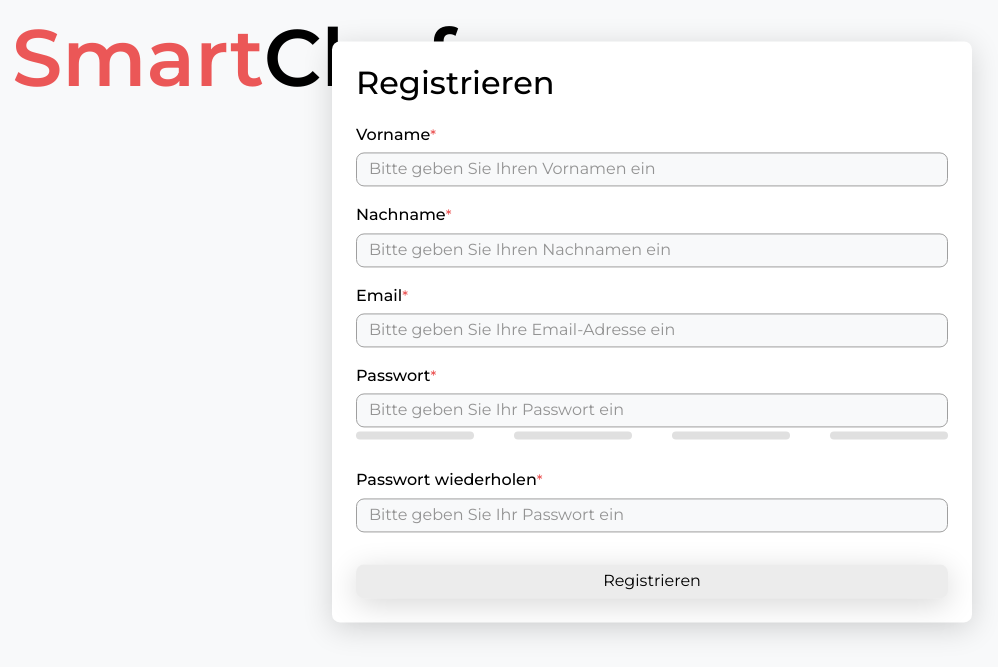
Scenario: Register page › Should not allow user to register if last name is missing
Focus the field named "lastName" at (652, 250), box [356,233,948,267]
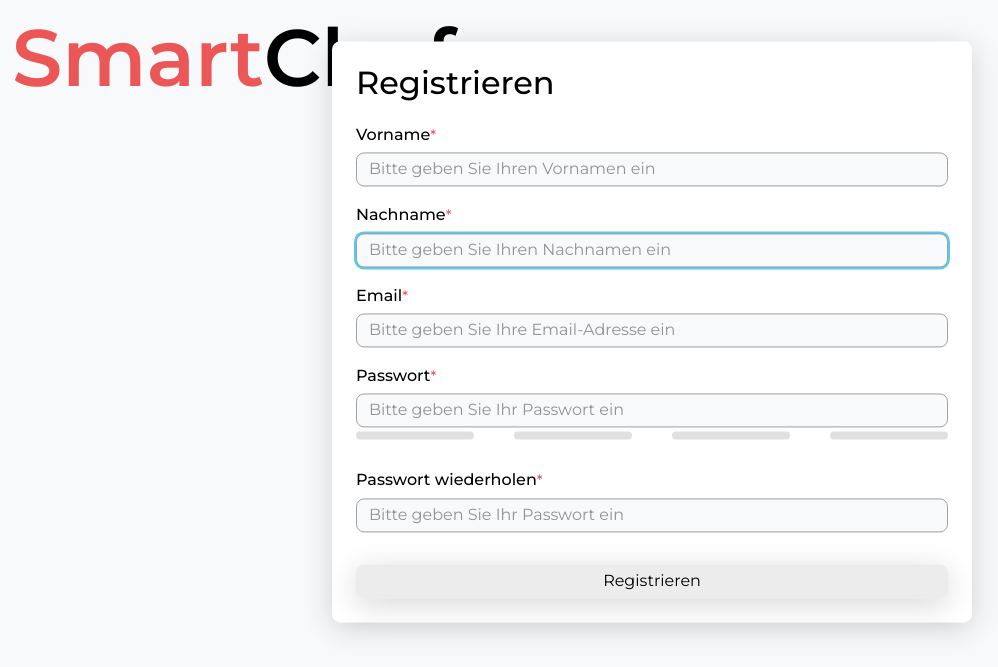
Leave the field named "lastName", box [356,233,948,267]
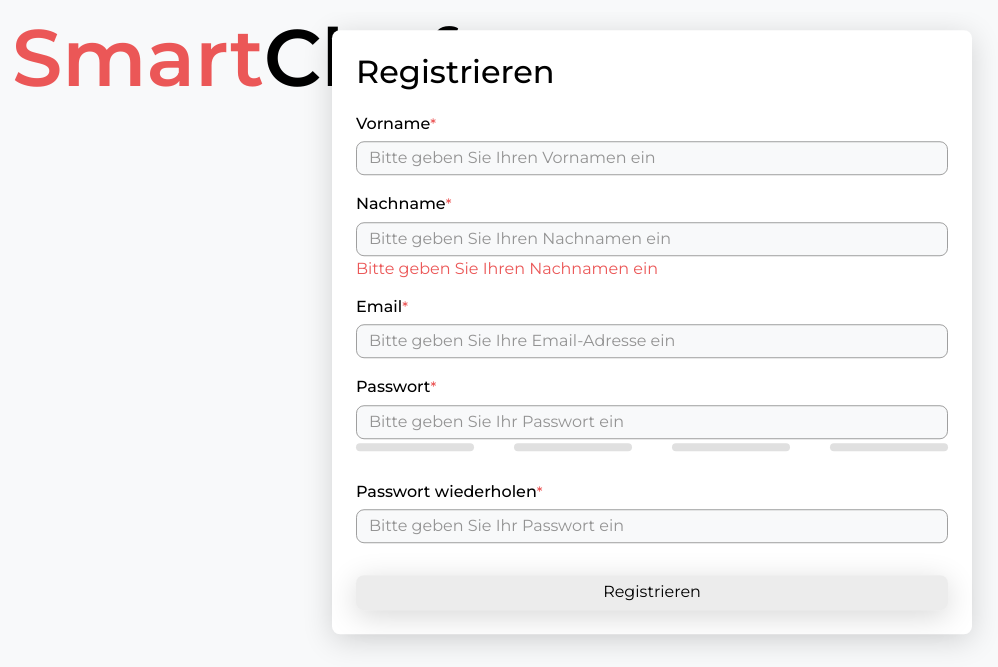
Expected: the submit button is disabled, [356,575,948,609]
Now the text "Bitte geben Sie Ihren Nachnamen ein" is shown, box [356,259,658,278]
